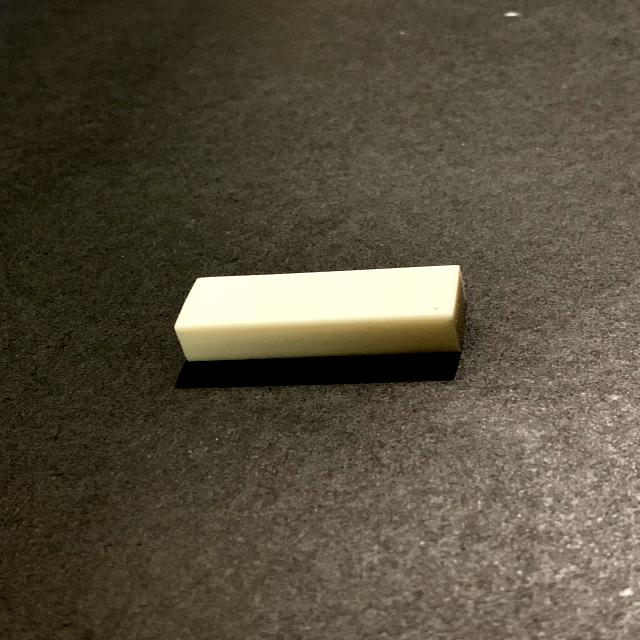Eraser: (135, 228, 508, 396)
